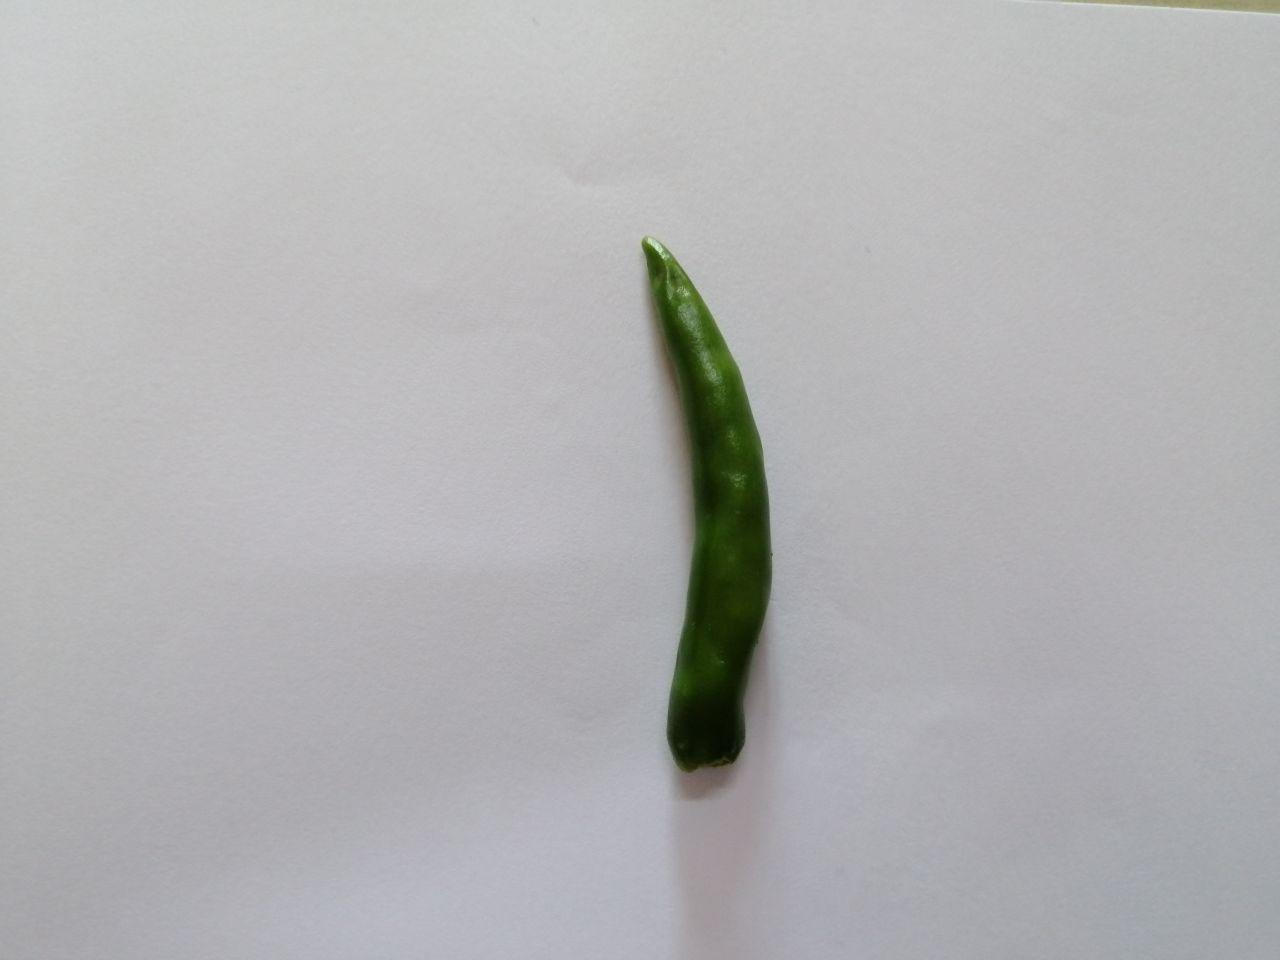lada hijau: (587, 227, 793, 808)
